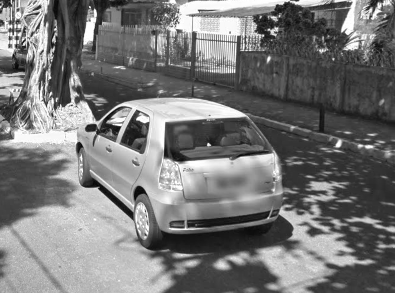car: (72, 77, 286, 246)
